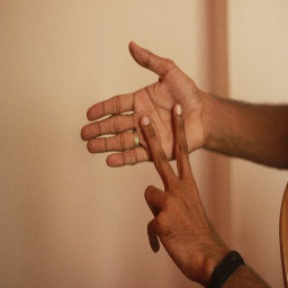N: (68, 38, 222, 224)
